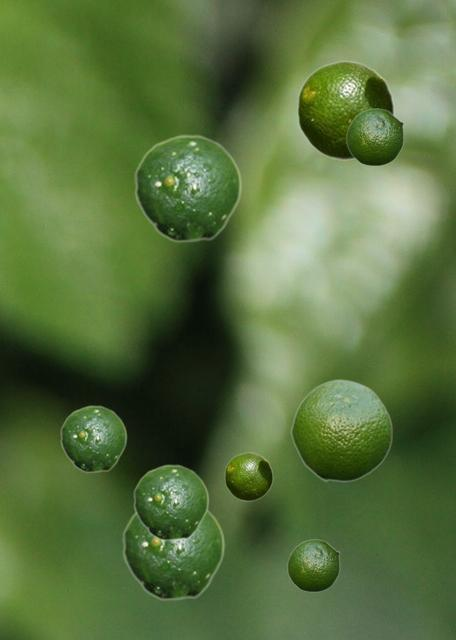calamansi: (134, 134, 241, 242), (290, 378, 392, 481), (296, 60, 394, 159), (122, 509, 224, 600), (133, 464, 208, 540), (60, 405, 126, 472), (346, 108, 403, 165), (287, 539, 339, 591), (224, 452, 272, 500)
